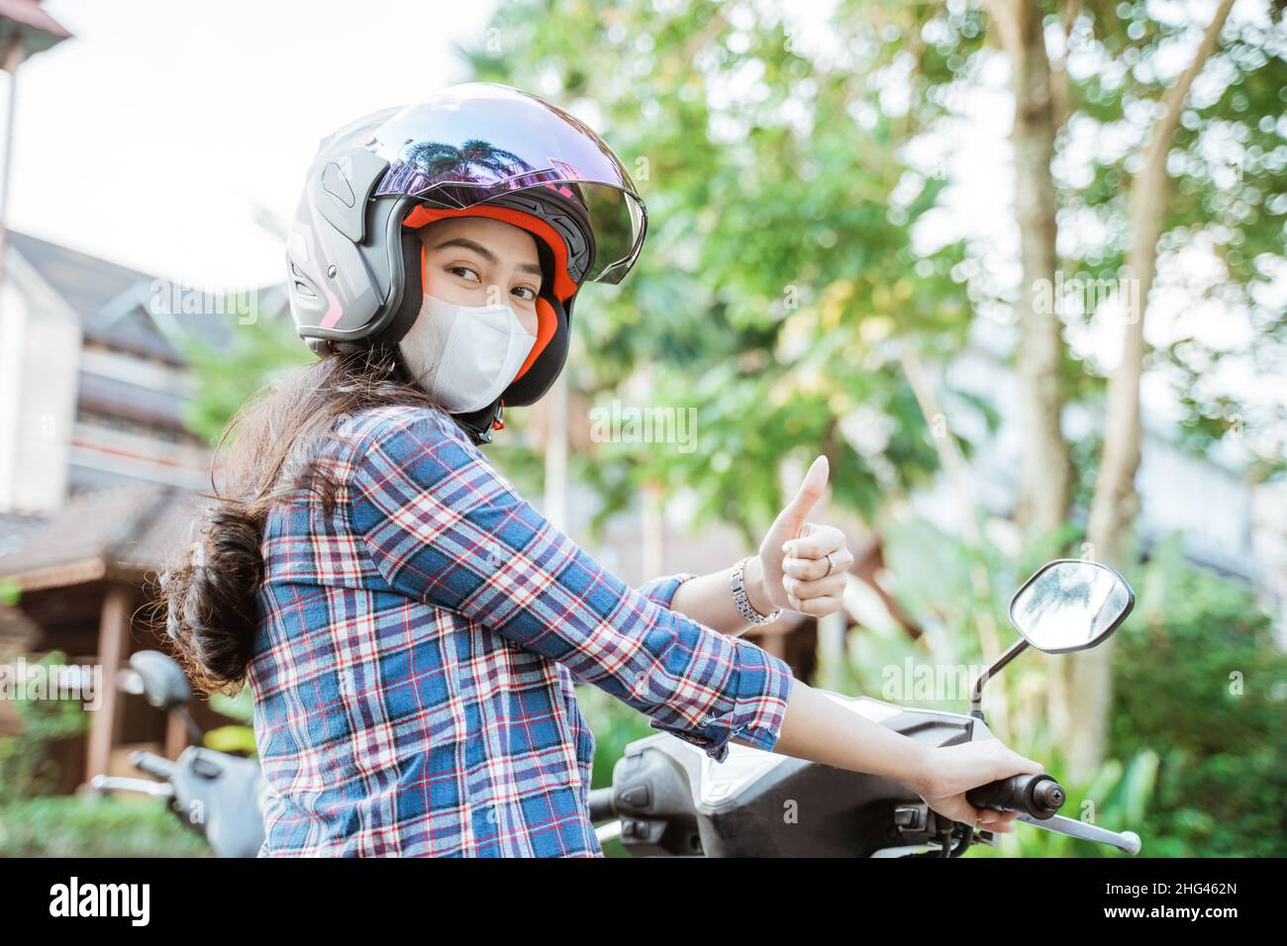helmets: (248, 91, 665, 430)
